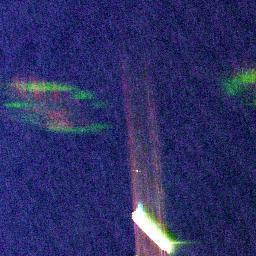Ship: (126, 201, 178, 254)
